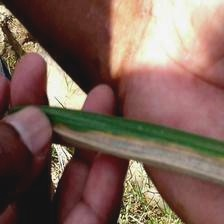Leaf_Blast: (34, 126, 204, 161)
